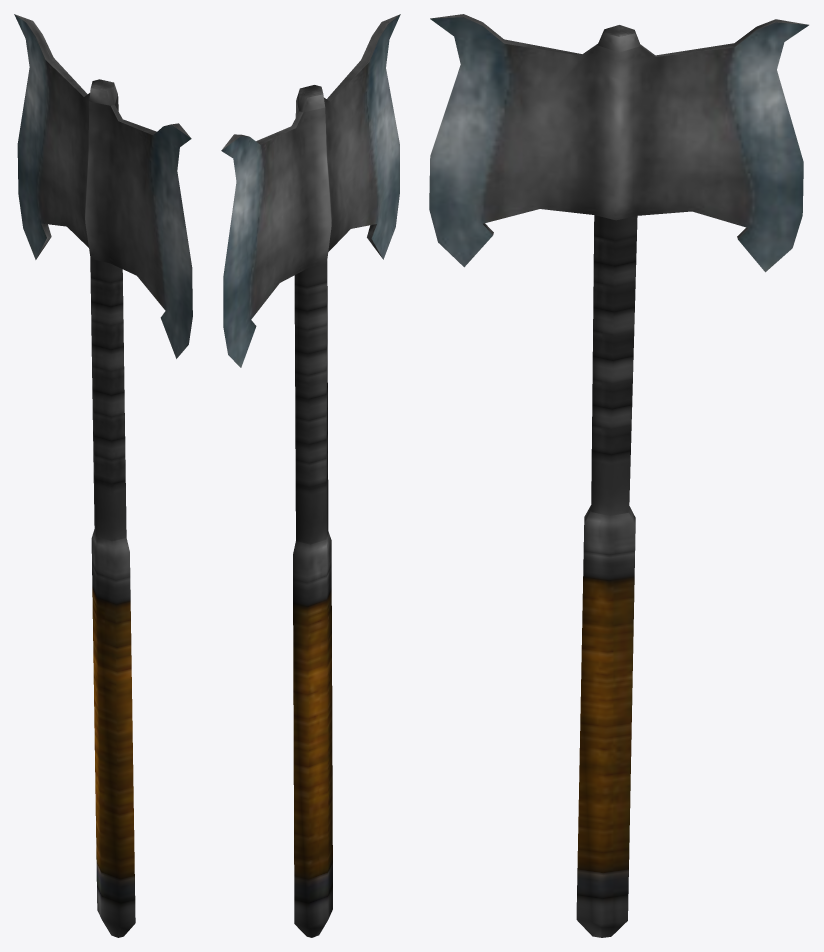
Rendered from weapons_fa_2haa.glb.
3 views of the same model, side by side, from view 1: azimuth 30°, elevation 25°; view 2: azimuth 150°, elevation 25°; view 3: azimuth 270°, elevation 25° (orthographic). The views are drawn at different scales.
Parts seen in each view (by area): view 1: fa_2haa; view 2: fa_2haa; view 3: fa_2haa.
Boxes of the visible parts, left/top/right/bottom form: fa_2haa: left=14, top=14, right=192, bottom=937; fa_2haa: left=221, top=14, right=400, bottom=937; fa_2haa: left=429, top=14, right=808, bottom=937.
Bounding box in the file's own units: 0.0606 × 1.23 × 0.462.
1 material, 1 textured.
